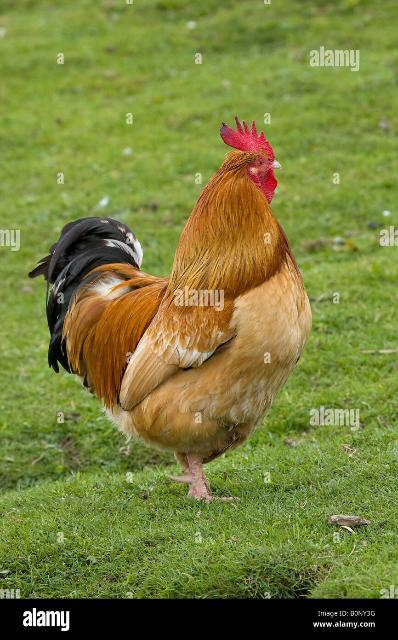Chicken: (29, 115, 315, 505)
